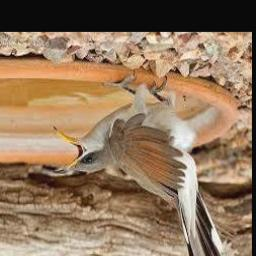Cuckoo: (53, 75, 231, 256)
